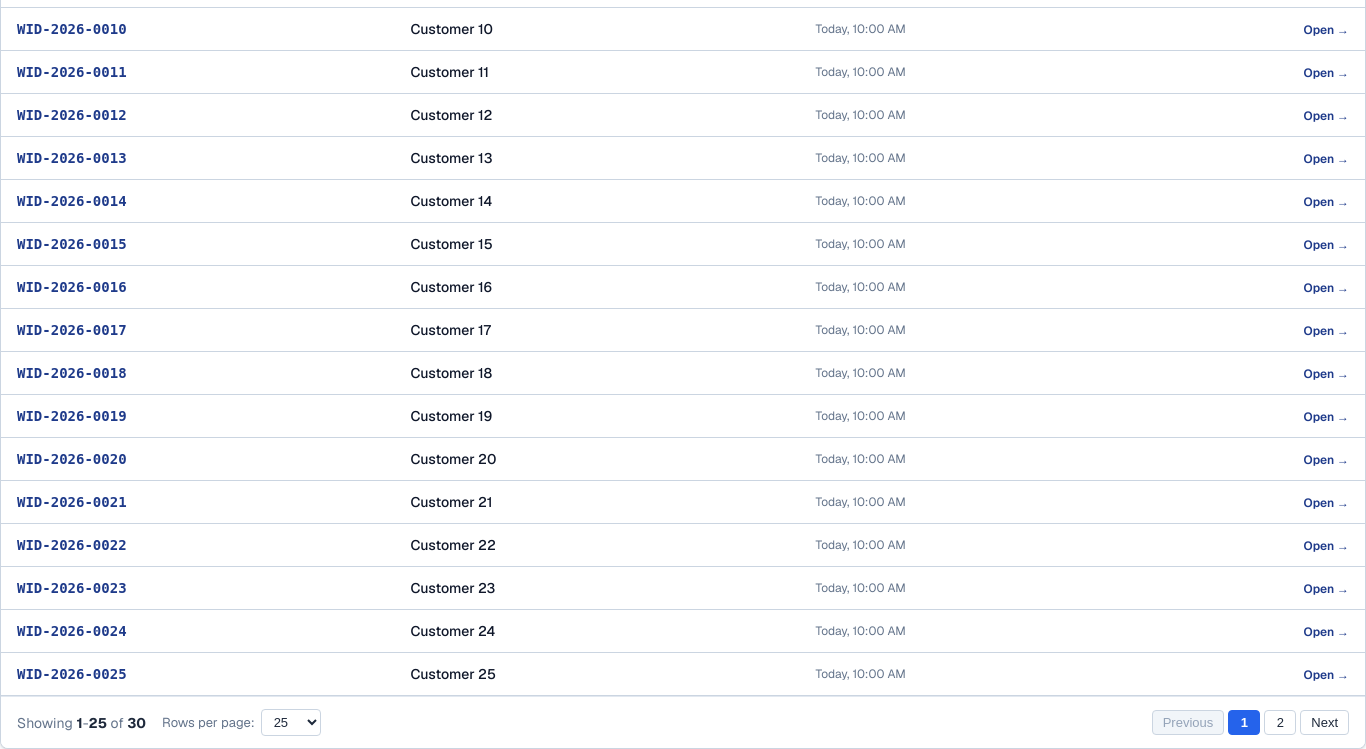
Test: Client Demo Runtime Slice › In Basket Work List - Restrained Columns, Customer Name, & Pagination › renders reusable pagination in In Basket and responds to page change
(page scrolled)
Check: the element with test id "in-basket-pagination" is shown, box [1, 696, 1365, 748]
Check: the element with test id "pagination-count" reads "Showing 1-25 of 30", box [17, 714, 146, 732]
Note: Go to page 2
Click the button with test id "pagination-next" at [1325, 722], box [1300, 710, 1349, 735]
(page scrolled)
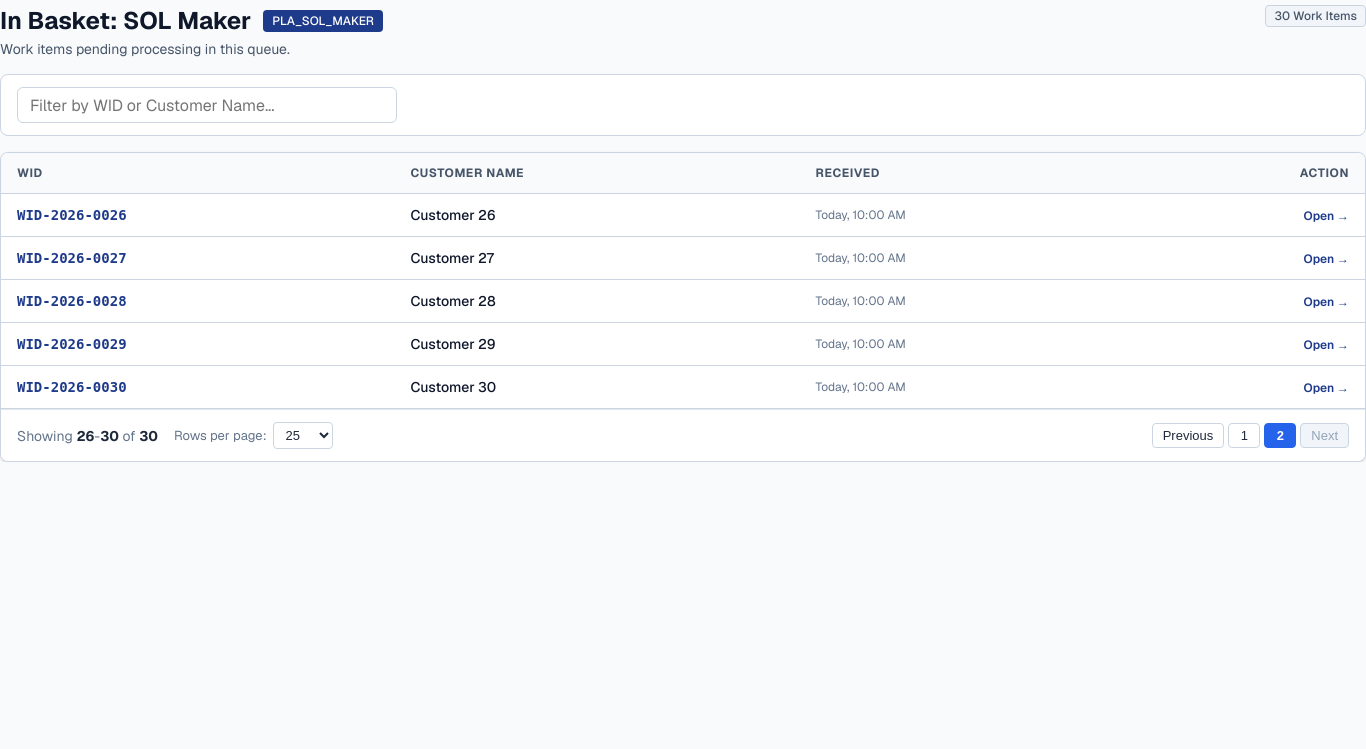
Check: the element with test id "pagination-count" reads "Showing 26-30 of 30", box [17, 426, 158, 444]
Check: the text "WID-2026-0026" is shown, box [1, 194, 394, 236]
